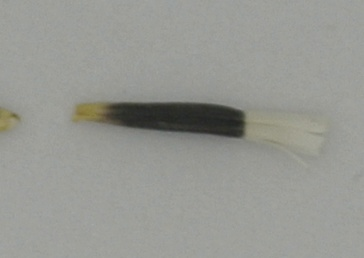เมล็ดดีติดกัน: (69, 98, 328, 173)
